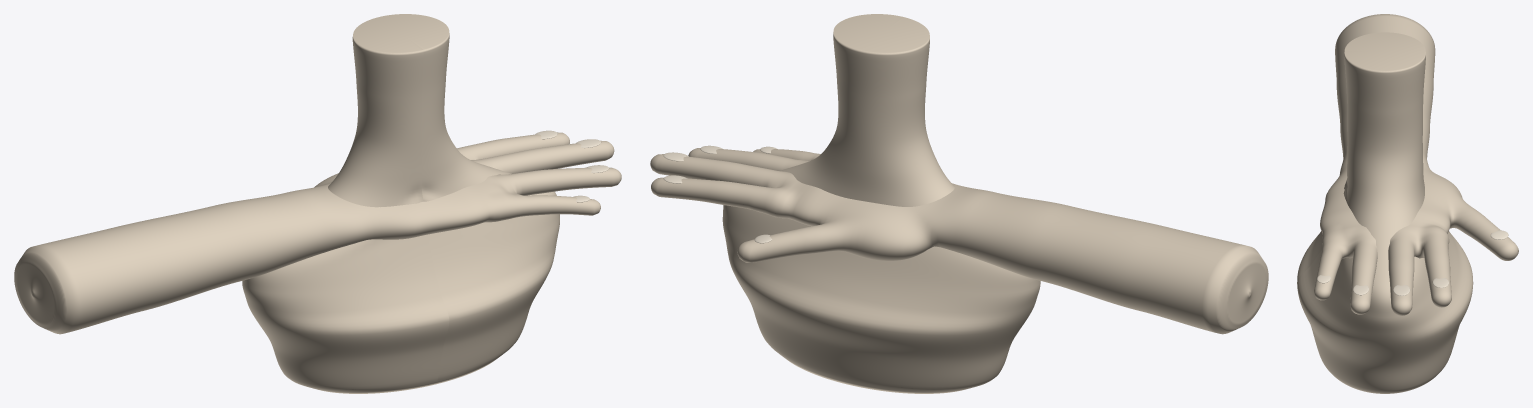
Rendered from atelier-mannequin-v1.glb.
3 views of the same model, side by side, from view 1: azimuth 30°, elevation 25°; view 2: azimuth 150°, elevation 25°; view 3: azimuth 270°, elevation 25° (orthographic). The views are drawn at different scales.
Visible parts, largest first — view 1: ShouldersAndNeckSurface, ContinuousHandSurface; view 2: ShouldersAndNeckSurface, ContinuousHandSurface; view 3: ShouldersAndNeckSurface, ContinuousHandSurface.
Part boxes in pixels (x1,y1,x2,y2): ShouldersAndNeckSurface: (242,14,559,393); ContinuousHandSurface: (14,132,621,334); ShouldersAndNeckSurface: (722,14,1040,393); ContinuousHandSurface: (650,148,1268,334); ShouldersAndNeckSurface: (1297,32,1473,393); ContinuousHandSurface: (1314,14,1518,315).
Size of the model in its own units: 1.9 by 1 by 0.6773.
